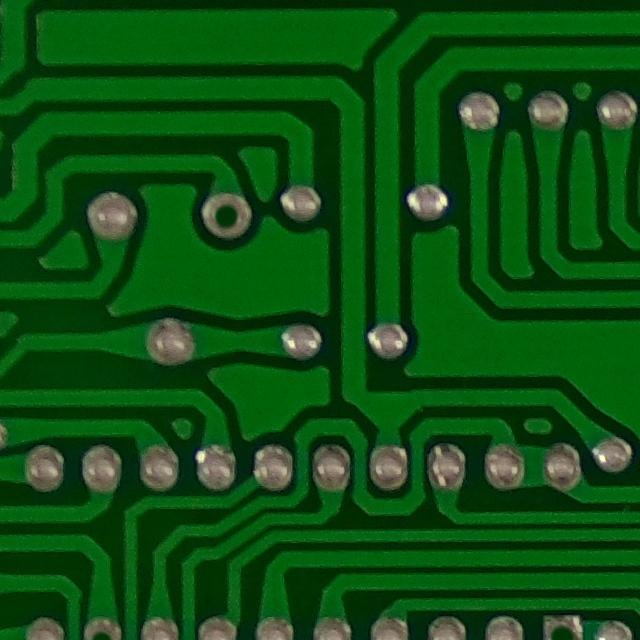missing_hole: (196, 185, 262, 241)
